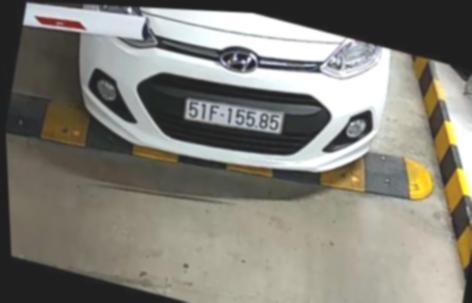License_Plate: (176, 94, 293, 140)
